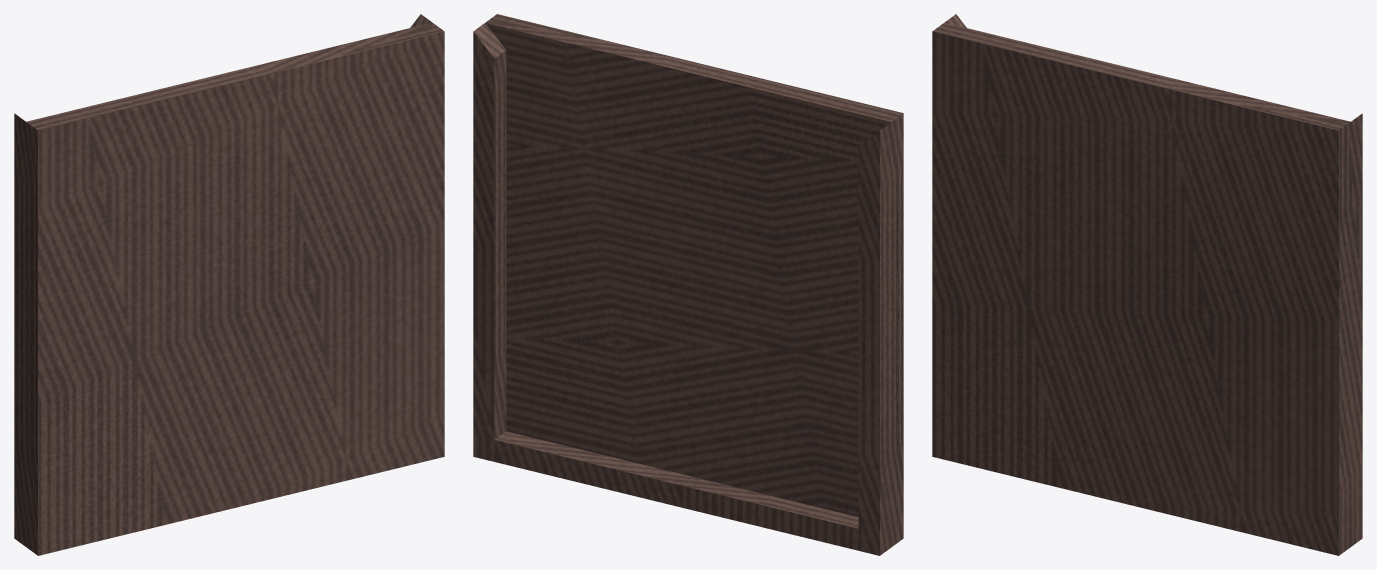
The picture shows the model from 3 angles, left to right: view 1: azimuth 30°, elevation 25°; view 2: azimuth 150°, elevation 25°; view 3: azimuth 330°, elevation 25°; orthographic projection.
Visible parts, largest first — view 1: base; view 2: base; view 3: base.
Boxes of the visible parts, box(x1,y1,x2,y2) form: base: box(14, 14, 444, 555); base: box(473, 14, 903, 555); base: box(932, 14, 1362, 555).
Bounding box in the file's own units: 2 × 2 × 0.2029.
Materials: 1 (1 with a texture image).
